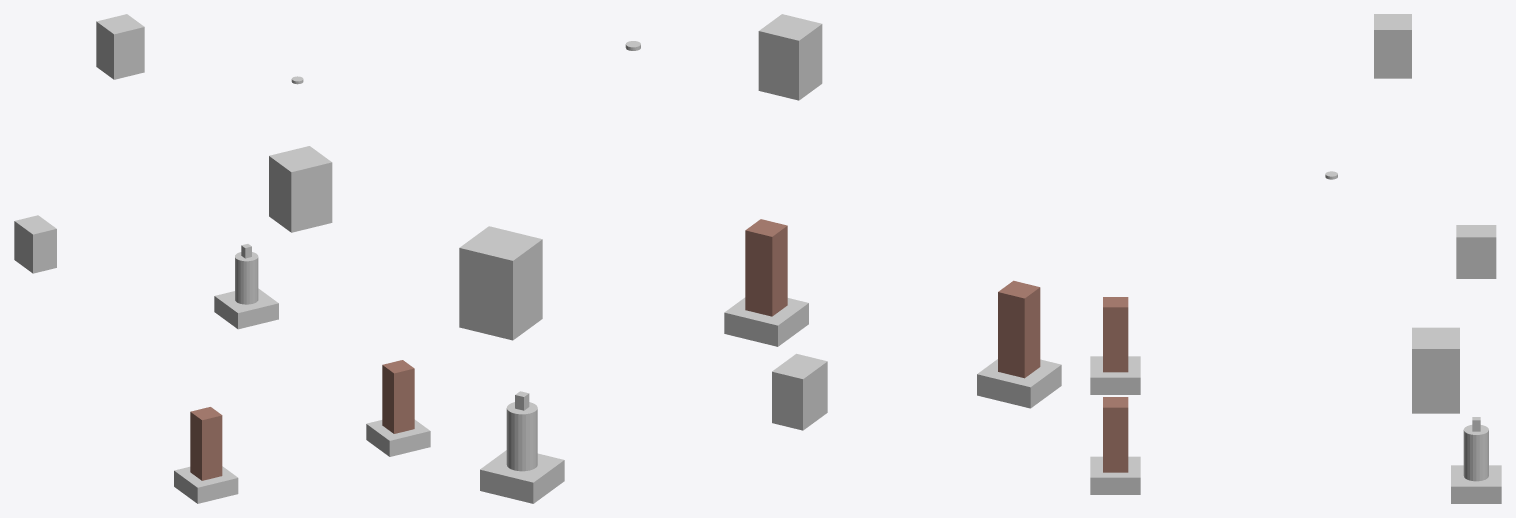
The picture shows the model from 3 angles, left to right: view 1: azimuth 30°, elevation 25°; view 2: azimuth 150°, elevation 25°; view 3: azimuth 270°, elevation 25°; orthographic projection. The views are drawn at different scales.
Size of the model in its own units: 4.26 by 5.15 by 4.98.
